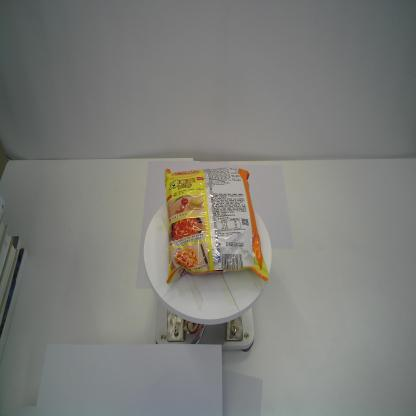Instant Noodles: (164, 167, 269, 285)
